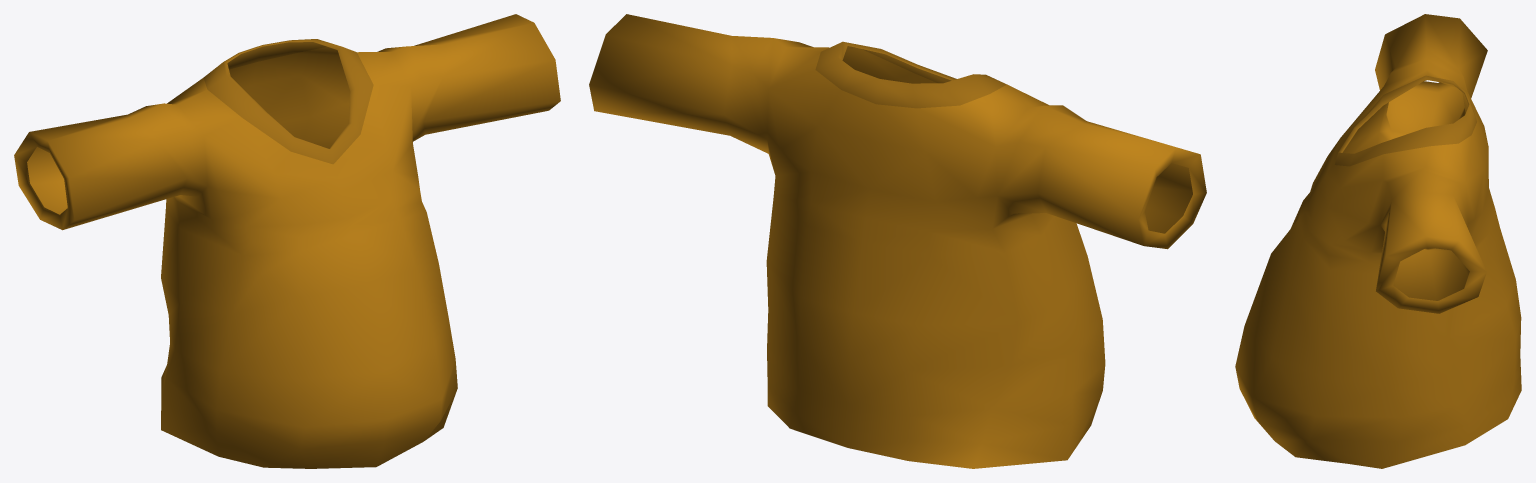
Rendered from Shirt_Griffin01.fbx.
3 views of the same model, side by side, from view 1: azimuth 30°, elevation 25°; view 2: azimuth 150°, elevation 25°; view 3: azimuth 270°, elevation 25° (orthographic). The views are drawn at different scales.
Parts seen in each view (by area): view 1: Shirt_Griffin01; view 2: Shirt_Griffin01; view 3: Shirt_Griffin01.
Boxes of the visible parts, x1,y1,x2,y2 form: Shirt_Griffin01: [14, 14, 560, 468]; Shirt_Griffin01: [589, 14, 1206, 468]; Shirt_Griffin01: [1235, 14, 1521, 468].
Size of the model in its own units: 88.63 by 58.99 by 48.41.
